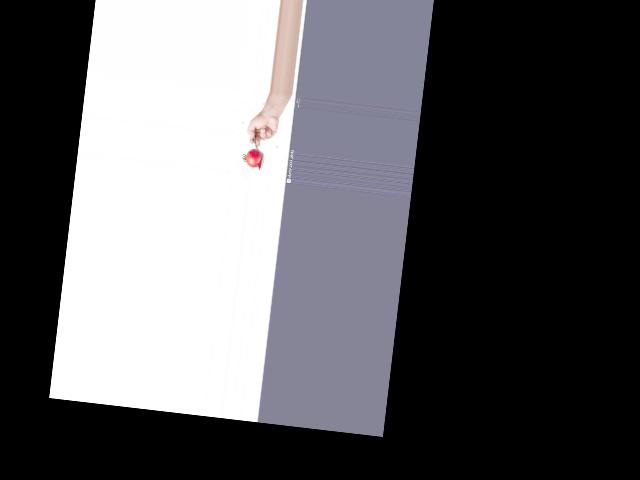tomato: (245, 147, 262, 168)
